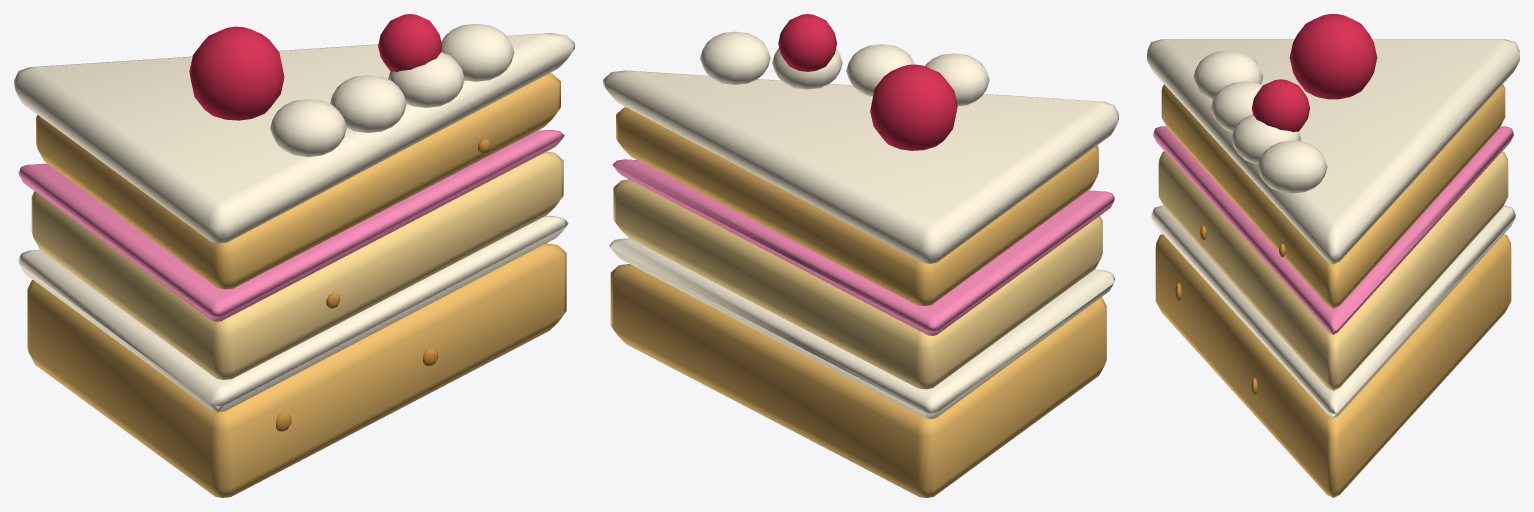
Rendered from cake_slice.glb.
3 views of the same model, side by side, from view 1: azimuth 30°, elevation 25°; view 2: azimuth 150°, elevation 25°; view 3: azimuth 270°, elevation 25° (orthographic). The views are drawn at different scales.
Parts seen in each view (by area): view 1: cake_slice; view 2: cake_slice; view 3: cake_slice.
Part boxes in pixels (bbox=[...]): cake_slice: bbox=[14, 14, 574, 497]; cake_slice: bbox=[603, 14, 1118, 497]; cake_slice: bbox=[1147, 14, 1519, 497].
Bounding box in the file's own units: 1 × 0.7797 × 0.7657.
